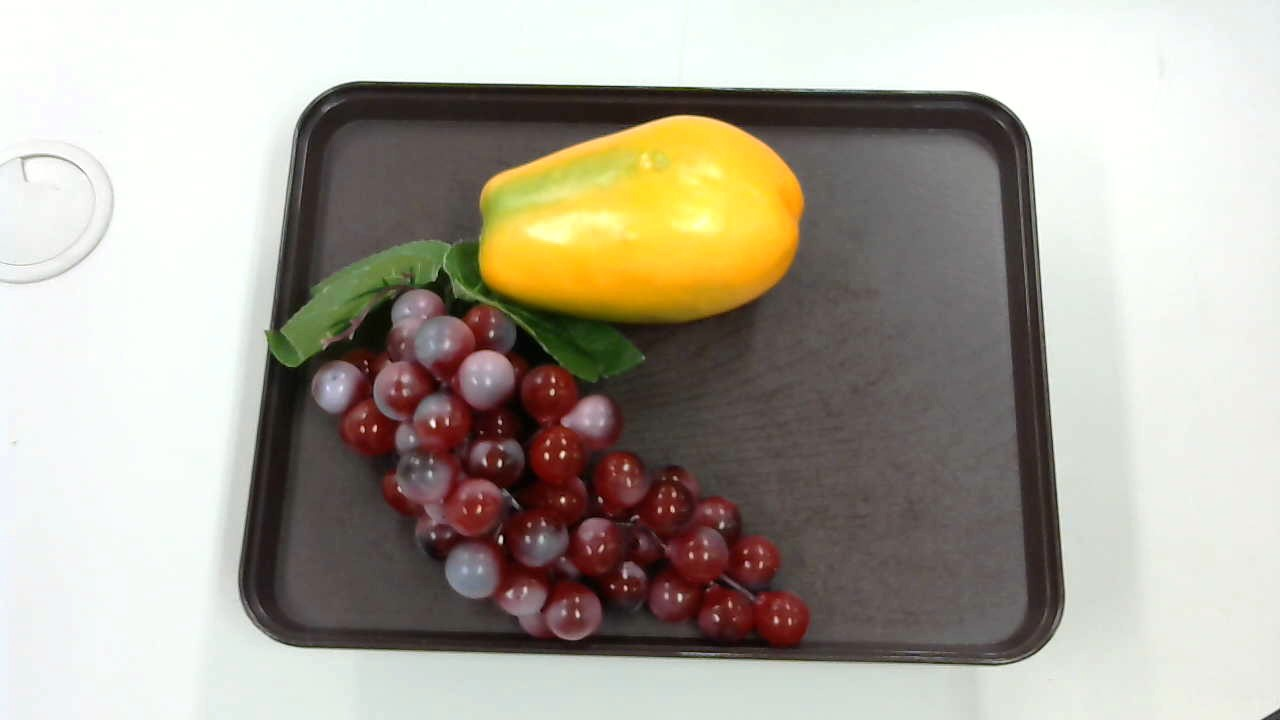grape: (269, 235, 827, 651)
papya: (476, 113, 808, 327)
